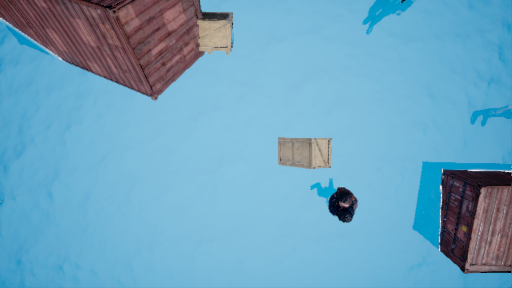person: (313, 180, 361, 224)
